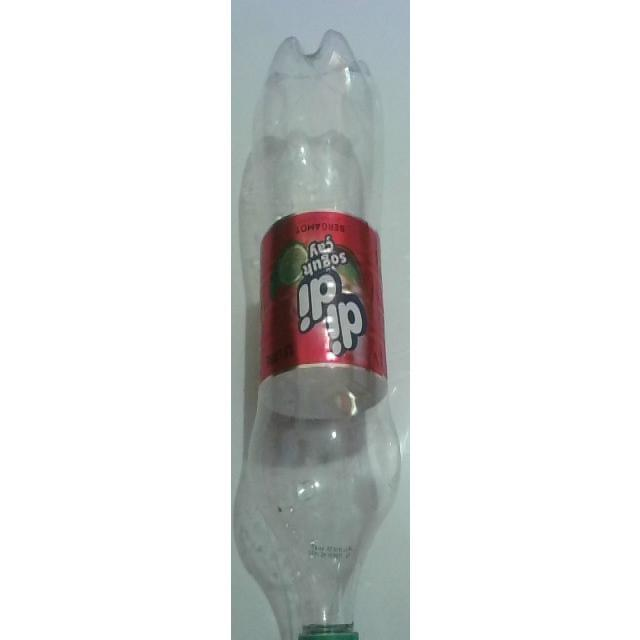plastic_bottle: (246, 29, 404, 640)
